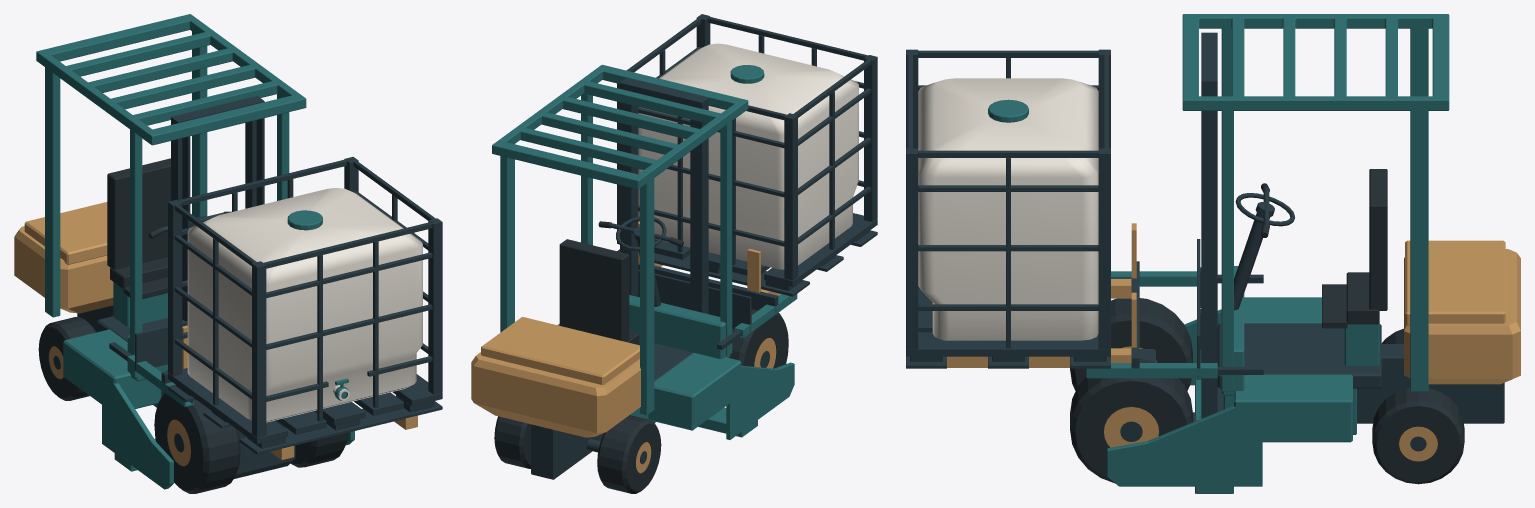
File: forklift-loaded-ibc.glb
3 views of the same model, side by side, from view 1: azimuth 30°, elevation 25°; view 2: azimuth 150°, elevation 25°; view 3: azimuth 270°, elevation 25° (orthographic). The views are drawn at different scales.
Visible parts, largest first — view 1: forklift-loaded-ibc__batch_25, forklift-loaded-ibc__batch_01, forklift-loaded-ibc__batch_24, forklift-loaded-ibc__batch_02, forklift-loaded-ibc__batch_00, forklift-loaded-ibc__batch_23, forklift-loaded-ibc__batch_19, forklift-loaded-ibc__batch_11, forklift-loaded-ibc__batch_22, forklift-loaded-ibc__batch_03, forklift-loaded-ibc__batch_26, forklift-loaded-ibc__batch_08 (+1 smaller); view 2: forklift-loaded-ibc__batch_01, forklift-loaded-ibc__batch_25, forklift-loaded-ibc__batch_24, forklift-loaded-ibc__batch_02, forklift-loaded-ibc__batch_00, forklift-loaded-ibc__batch_23, forklift-loaded-ibc__batch_11, forklift-loaded-ibc__batch_03, forklift-loaded-ibc__batch_19, forklift-loaded-ibc__batch_14, forklift-loaded-ibc__batch_04, forklift-loaded-ibc__batch_08 (+3 smaller); view 3: forklift-loaded-ibc__batch_01, forklift-loaded-ibc__batch_25, forklift-loaded-ibc__batch_24, forklift-loaded-ibc__batch_00, forklift-loaded-ibc__batch_02, forklift-loaded-ibc__batch_22, forklift-loaded-ibc__batch_14, forklift-loaded-ibc__batch_23, forklift-loaded-ibc__batch_19, forklift-loaded-ibc__batch_08, forklift-loaded-ibc__batch_06, forklift-loaded-ibc__batch_21 (+5 smaller).
Boxes of the visible parts, x1,y1,x2,y2 form: forklift-loaded-ibc__batch_25: [187, 188, 422, 422]; forklift-loaded-ibc__batch_01: [36, 14, 354, 489]; forklift-loaded-ibc__batch_24: [168, 156, 442, 454]; forklift-loaded-ibc__batch_02: [14, 202, 113, 313]; forklift-loaded-ibc__batch_00: [77, 96, 295, 478]; forklift-loaded-ibc__batch_23: [107, 158, 170, 298]; forklift-loaded-ibc__batch_19: [154, 393, 240, 493]; forklift-loaded-ibc__batch_11: [38, 317, 96, 400]; forklift-loaded-ibc__batch_22: [290, 411, 348, 467]; forklift-loaded-ibc__batch_03: [135, 320, 187, 371]; forklift-loaded-ibc__batch_26: [287, 210, 348, 400]; forklift-loaded-ibc__batch_08: [127, 355, 193, 406]; forklift-loaded-ibc__batch_01: [492, 64, 794, 439]; forklift-loaded-ibc__batch_25: [638, 43, 858, 269]; forklift-loaded-ibc__batch_24: [617, 14, 877, 296]; forklift-loaded-ibc__batch_02: [471, 317, 640, 437]; forklift-loaded-ibc__batch_00: [531, 78, 708, 479]; forklift-loaded-ibc__batch_23: [559, 239, 639, 345]; forklift-loaded-ibc__batch_11: [597, 415, 661, 493]; forklift-loaded-ibc__batch_03: [638, 269, 751, 332]; forklift-loaded-ibc__batch_19: [729, 309, 788, 368]; forklift-loaded-ibc__batch_14: [494, 416, 530, 468]; forklift-loaded-ibc__batch_04: [638, 263, 778, 349]; forklift-loaded-ibc__batch_08: [734, 294, 797, 338]; forklift-loaded-ibc__batch_01: [1107, 14, 1449, 493]; forklift-loaded-ibc__batch_25: [918, 78, 1098, 340]; forklift-loaded-ibc__batch_24: [906, 49, 1110, 368]; forklift-loaded-ibc__batch_00: [1139, 32, 1504, 423]; forklift-loaded-ibc__batch_02: [1404, 240, 1520, 384]; forklift-loaded-ibc__batch_22: [1070, 358, 1192, 483]; forklift-loaded-ibc__batch_14: [1372, 388, 1464, 484]; forklift-loaded-ibc__batch_23: [1322, 169, 1387, 328]; forklift-loaded-ibc__batch_19: [1070, 298, 1192, 390]; forklift-loaded-ibc__batch_08: [1086, 271, 1217, 378]; forklift-loaded-ibc__batch_06: [947, 292, 1136, 367]; forklift-loaded-ibc__batch_21: [1104, 407, 1158, 447].
Size of the model in its own units: 1.2 by 2.1 by 3.
